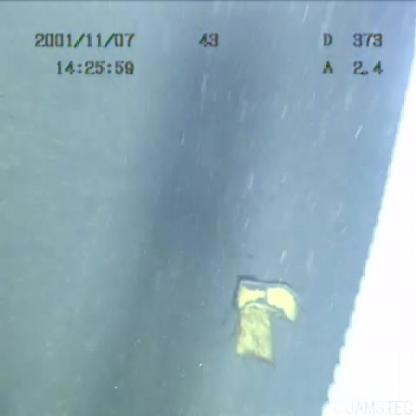Rov: (293, 2, 415, 416)
Rác: (198, 261, 312, 368)
